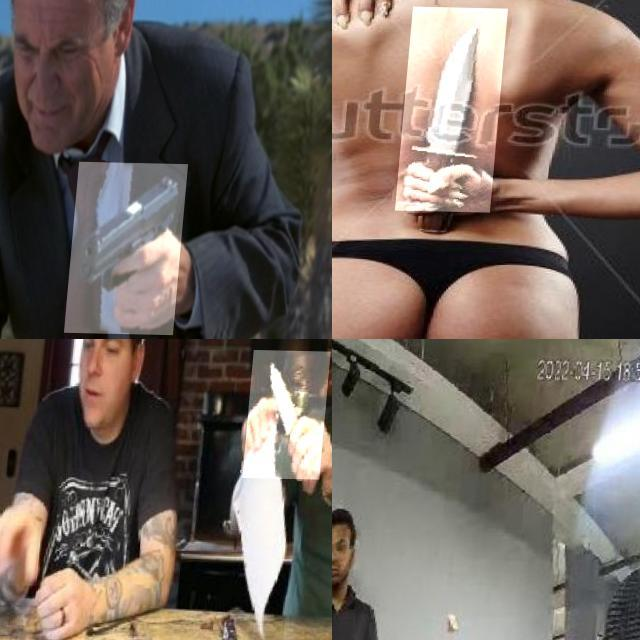-: (403, 6, 512, 210), (247, 348, 332, 478)
gun-knife-thesis - v11 Yolov5 augmented: (73, 160, 194, 333)
